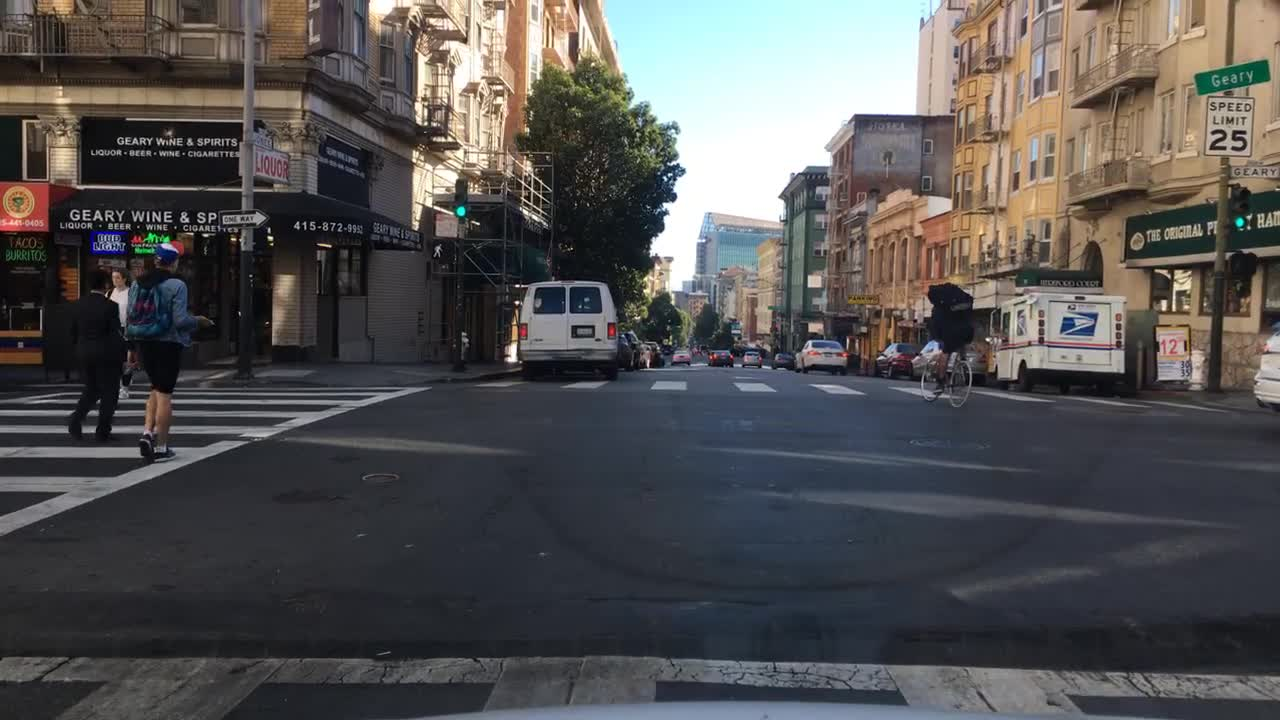bike: (919, 343, 973, 407)
bus: (985, 282, 1128, 395)
car: (512, 279, 624, 376), (913, 339, 989, 378), (1250, 325, 1278, 408), (799, 339, 848, 376), (872, 340, 916, 378), (621, 329, 640, 371), (769, 351, 795, 374), (707, 348, 734, 369), (618, 334, 633, 369), (646, 339, 664, 362), (670, 350, 692, 368), (637, 342, 651, 369), (740, 350, 762, 366), (691, 347, 704, 359), (663, 341, 673, 356), (704, 350, 713, 365)
person: (123, 232, 208, 465), (72, 266, 129, 446), (104, 264, 138, 398)
rider: (927, 282, 974, 383)
traffic light: (1232, 184, 1255, 241), (1227, 250, 1258, 282), (453, 169, 468, 220), (431, 239, 455, 264)
traffic sign: (1201, 92, 1252, 153), (1152, 321, 1190, 381), (1191, 60, 1268, 86), (213, 210, 267, 229), (241, 129, 276, 150), (435, 212, 456, 239)
